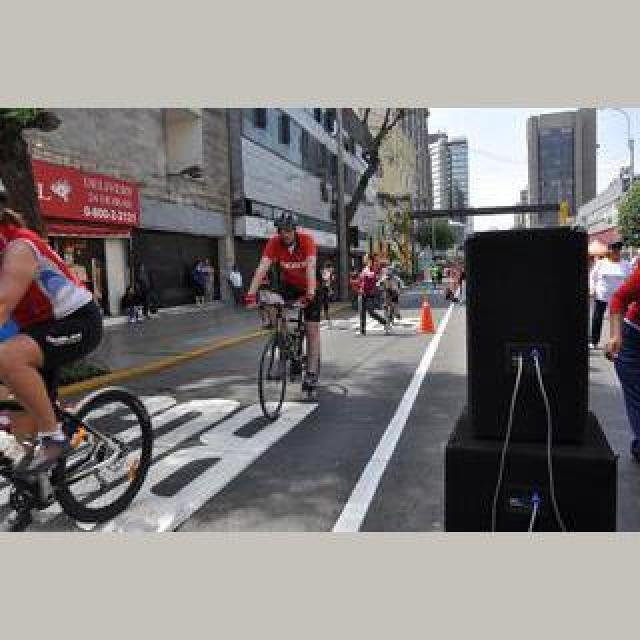MC-Bike: (0, 178, 104, 442), (250, 220, 324, 388), (590, 236, 630, 350)
Person: (0, 358, 152, 532), (254, 290, 322, 422)
